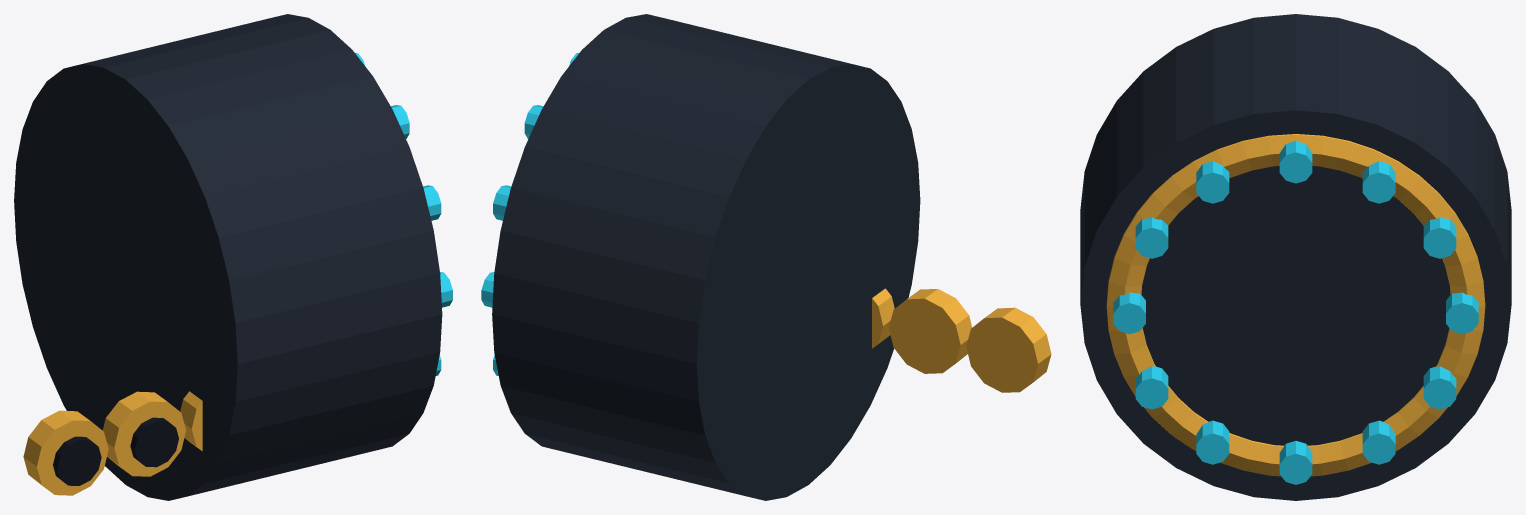
The model's file is 28_L86_SixAxisWristForceTorqueSensor.fbx.
The picture shows the model from 3 angles, left to right: view 1: azimuth 30°, elevation 25°; view 2: azimuth 150°, elevation 25°; view 3: azimuth 270°, elevation 25°; orthographic projection. The views are drawn at different scales.
Parts seen in each view (by area): view 1: L86_SixAxisWristForceTorqueSensor_Part_0000, L86_SixAxisWristForceTorqueSensor_Part_0003, L86_SixAxisWristForceTorqueSensor_Part_0005, L86_SixAxisWristForceTorqueSensor_Part_0006, L86_SixAxisWristForceTorqueSensor_Part_0004, L86_SixAxisWristForceTorqueSensor_Part_0002, L86_SixAxisWristForceTorqueSensor_Part_0007; view 2: L86_SixAxisWristForceTorqueSensor_Part_0000, L86_SixAxisWristForceTorqueSensor_Part_0003, L86_SixAxisWristForceTorqueSensor_Part_0005, L86_SixAxisWristForceTorqueSensor_Part_0002, L86_SixAxisWristForceTorqueSensor_Part_0007; view 3: L86_SixAxisWristForceTorqueSensor_Part_0000, L86_SixAxisWristForceTorqueSensor_Part_0001, L86_SixAxisWristForceTorqueSensor_Part_0002.
Part boxes in pixels (box(x1,y1,x2,y2)): L86_SixAxisWristForceTorqueSensor_Part_0000: box(14, 14, 442, 500); L86_SixAxisWristForceTorqueSensor_Part_0003: box(23, 410, 108, 495); L86_SixAxisWristForceTorqueSensor_Part_0005: box(102, 391, 185, 476); L86_SixAxisWristForceTorqueSensor_Part_0006: box(130, 417, 178, 467); L86_SixAxisWristForceTorqueSensor_Part_0004: box(53, 436, 101, 485); L86_SixAxisWristForceTorqueSensor_Part_0002: box(355, 53, 452, 375); L86_SixAxisWristForceTorqueSensor_Part_0007: box(180, 391, 202, 451); L86_SixAxisWristForceTorqueSensor_Part_0000: box(492, 14, 920, 500); L86_SixAxisWristForceTorqueSensor_Part_0003: box(966, 307, 1051, 392); L86_SixAxisWristForceTorqueSensor_Part_0005: box(888, 289, 972, 373); L86_SixAxisWristForceTorqueSensor_Part_0002: box(481, 52, 579, 375); L86_SixAxisWristForceTorqueSensor_Part_0007: box(872, 288, 894, 348); L86_SixAxisWristForceTorqueSensor_Part_0000: box(1080, 14, 1511, 500); L86_SixAxisWristForceTorqueSensor_Part_0001: box(1106, 134, 1485, 476); L86_SixAxisWristForceTorqueSensor_Part_0002: box(1113, 141, 1478, 484).
Bounding box in the file's own units: 72 × 70 × 70.
